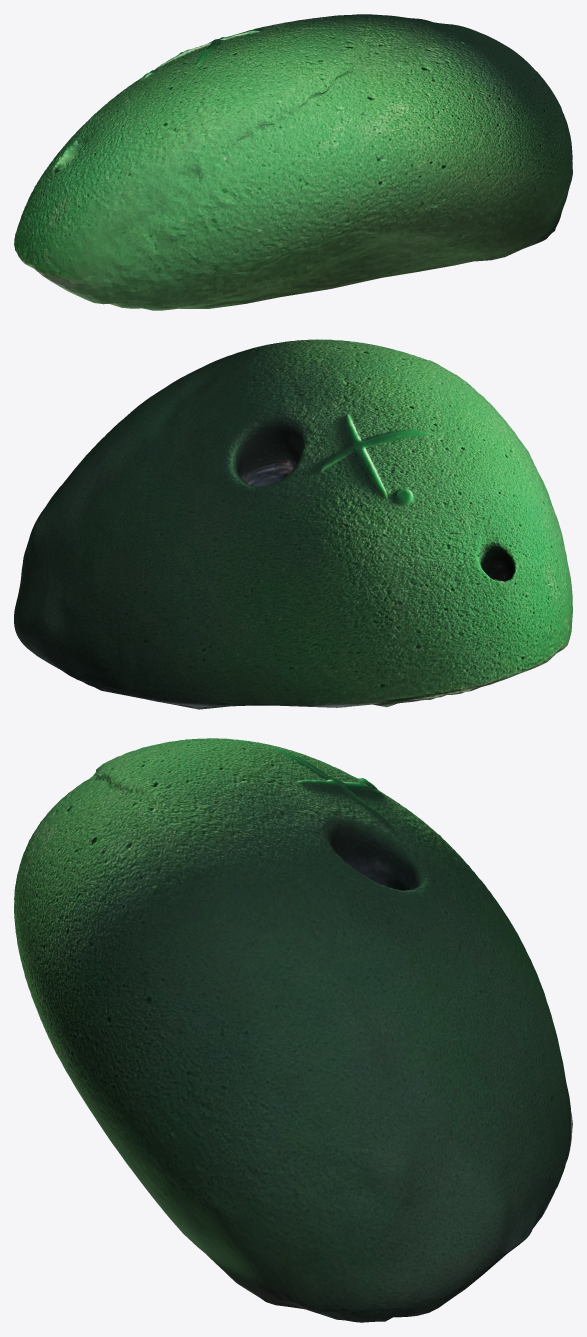
The model's file is Expression_Pure_Eggs_5.glb.
The picture shows the model from 3 angles, top to bottom: view 1: azimuth 30°, elevation 25°; view 2: azimuth 150°, elevation 25°; view 3: azimuth 270°, elevation 25°; orthographic projection. The views are drawn at different scales.
Bounding box in the file's own units: 0.9934 × 0.5118 × 0.6891.
1 material, 1 textured.
